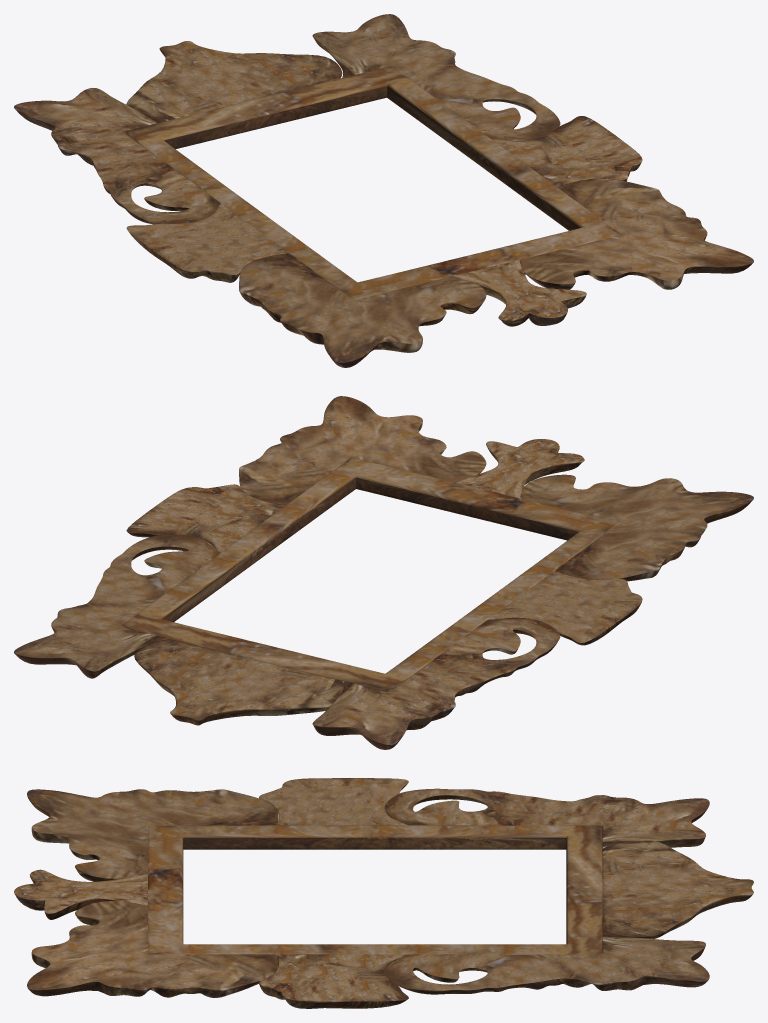
The model's file is 10305_picture_frame_V2_max2011_it2.obj.
3 views of the same model, one above another, from view 1: azimuth 30°, elevation 25°; view 2: azimuth 150°, elevation 25°; view 3: azimuth 270°, elevation 25° (orthographic).
Visible parts, largest first — view 1: 10305_picture_frame_V1; view 2: 10305_picture_frame_V1; view 3: 10305_picture_frame_V1.
Boxes of the visible parts, left/top/right/bottom form: 10305_picture_frame_V1: left=14, top=14, right=753, bottom=367; 10305_picture_frame_V1: left=14, top=396, right=753, bottom=749; 10305_picture_frame_V1: left=14, top=778, right=753, bottom=1008.
Bounding box in the file's own units: 24.96 × 0.9464 × 34.95.
1 material, 1 textured.
